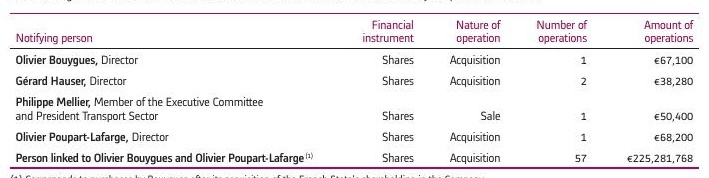table: (0, 0, 709, 178)
